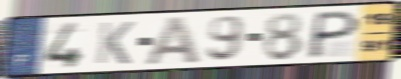4: (43, 20, 85, 69)
8: (261, 11, 307, 62)
9: (206, 15, 247, 62)
A: (142, 15, 203, 67)
K: (94, 20, 137, 66)
P: (304, 9, 362, 60)
